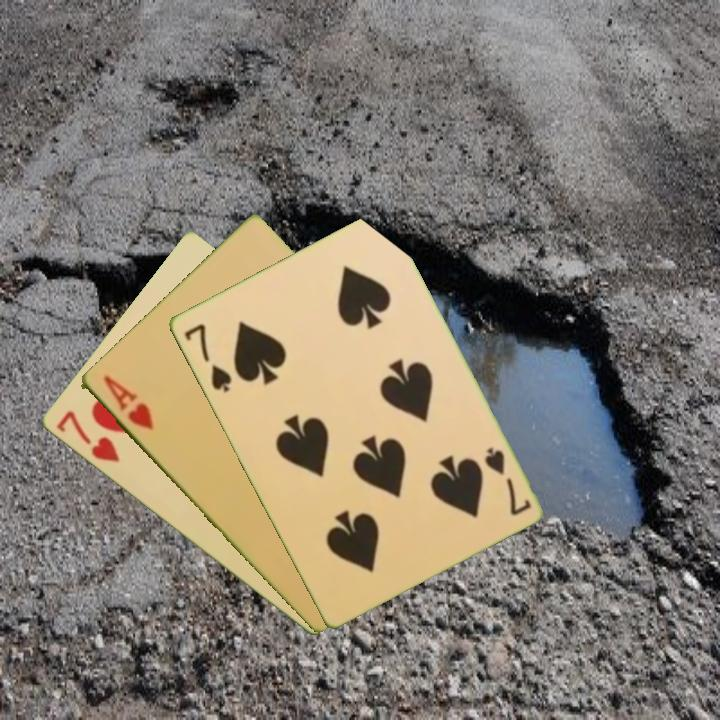7h: (52, 407, 123, 466)
7s: (180, 320, 234, 396), (480, 443, 534, 519)
Ah: (99, 371, 156, 434)
